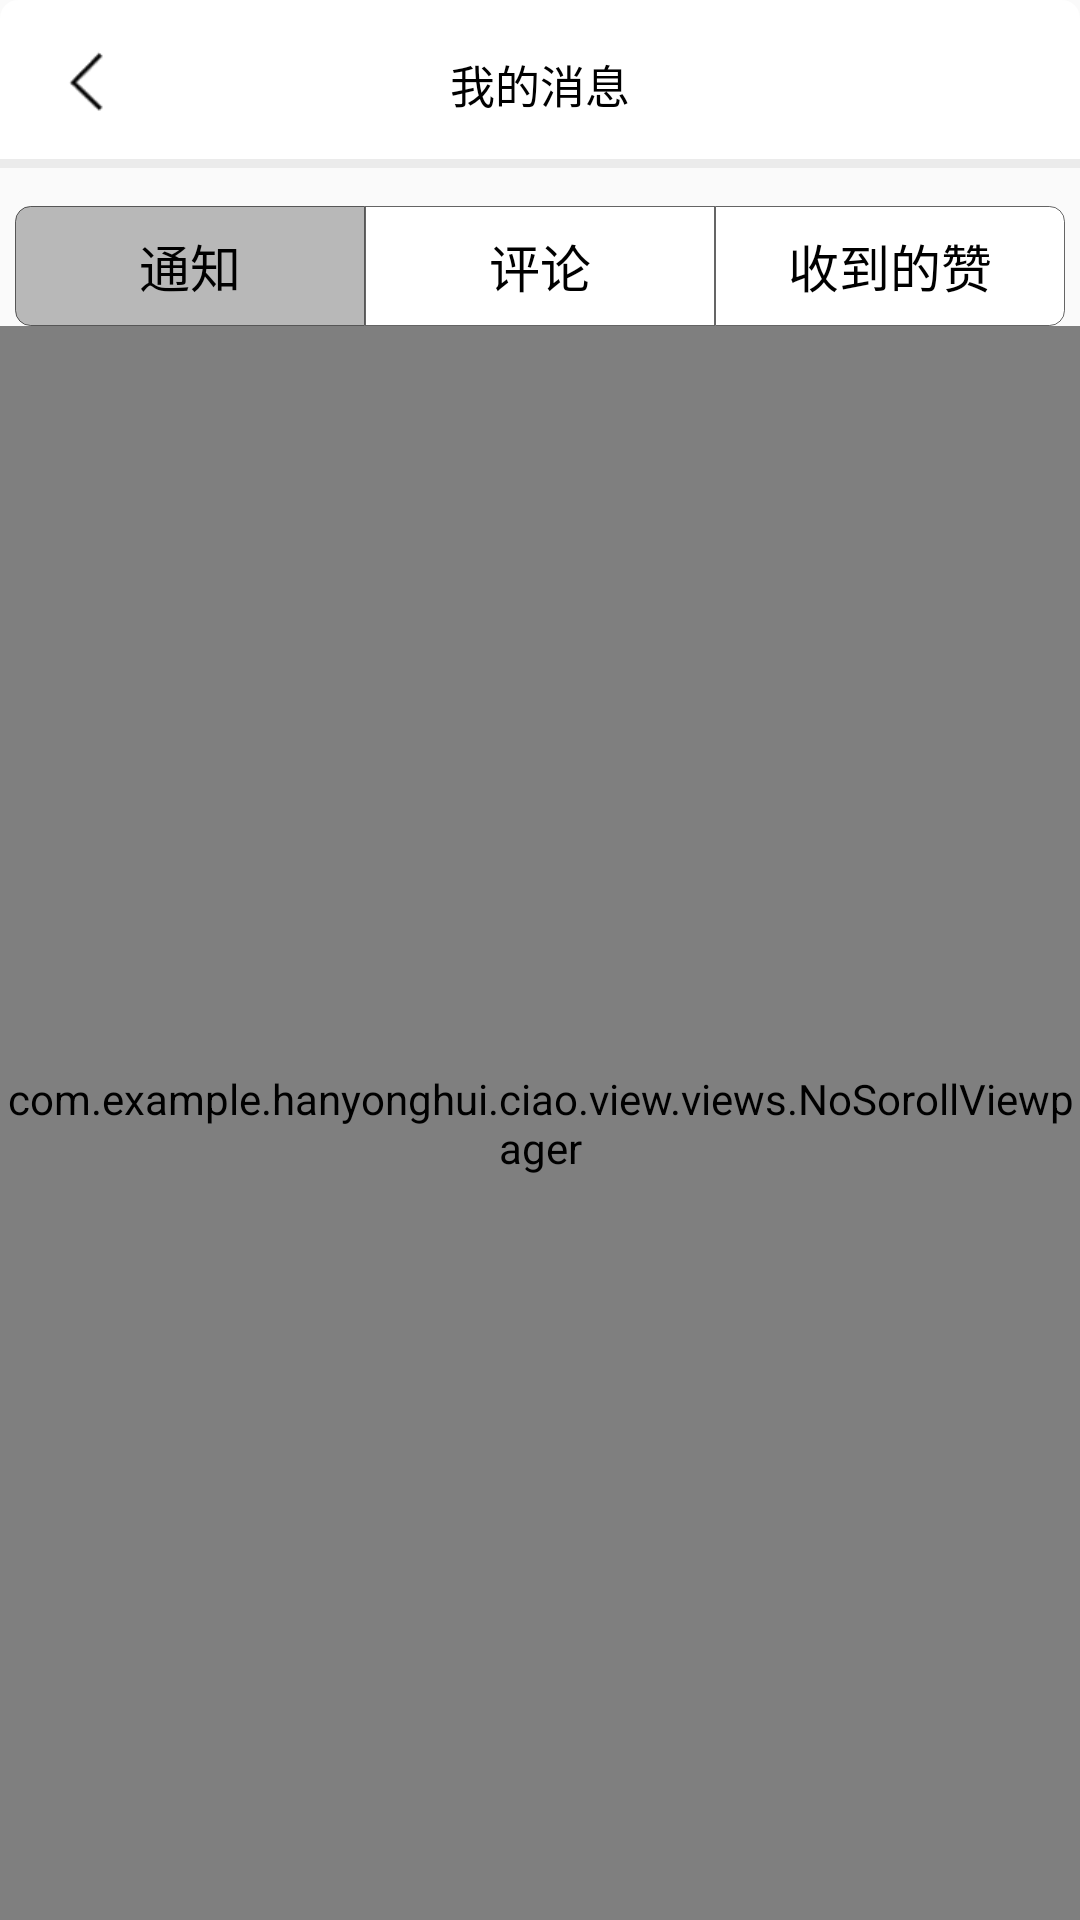

Icons on this 1080w x 1920h Android screen, each with its box as (x1, y1, x2, y2):
back: (70, 53, 103, 111)
